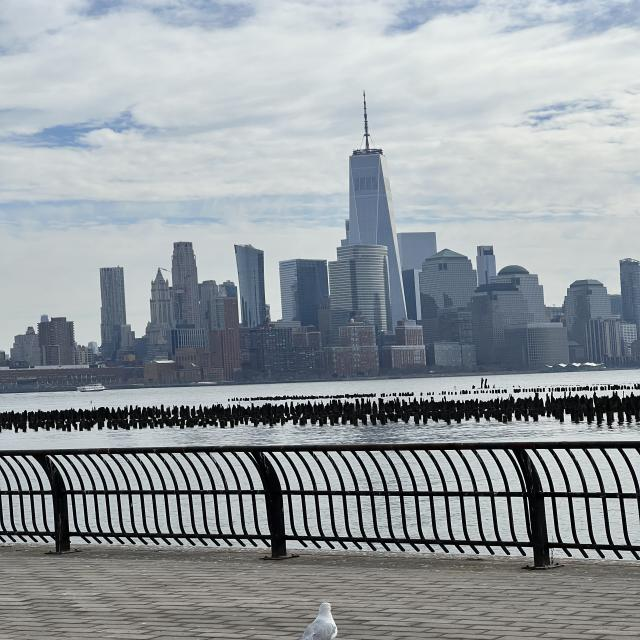WTC: (342, 89, 400, 245)
